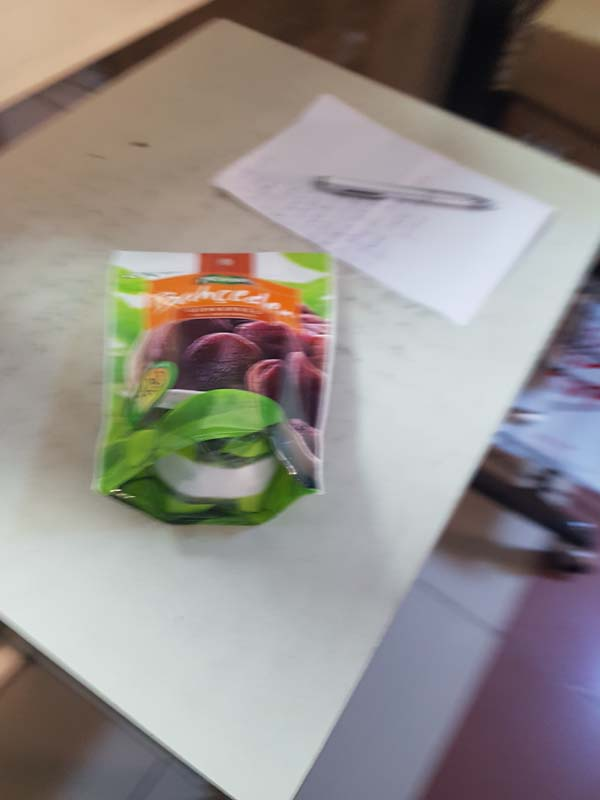bahcedengunkurusu: (89, 239, 345, 530)
